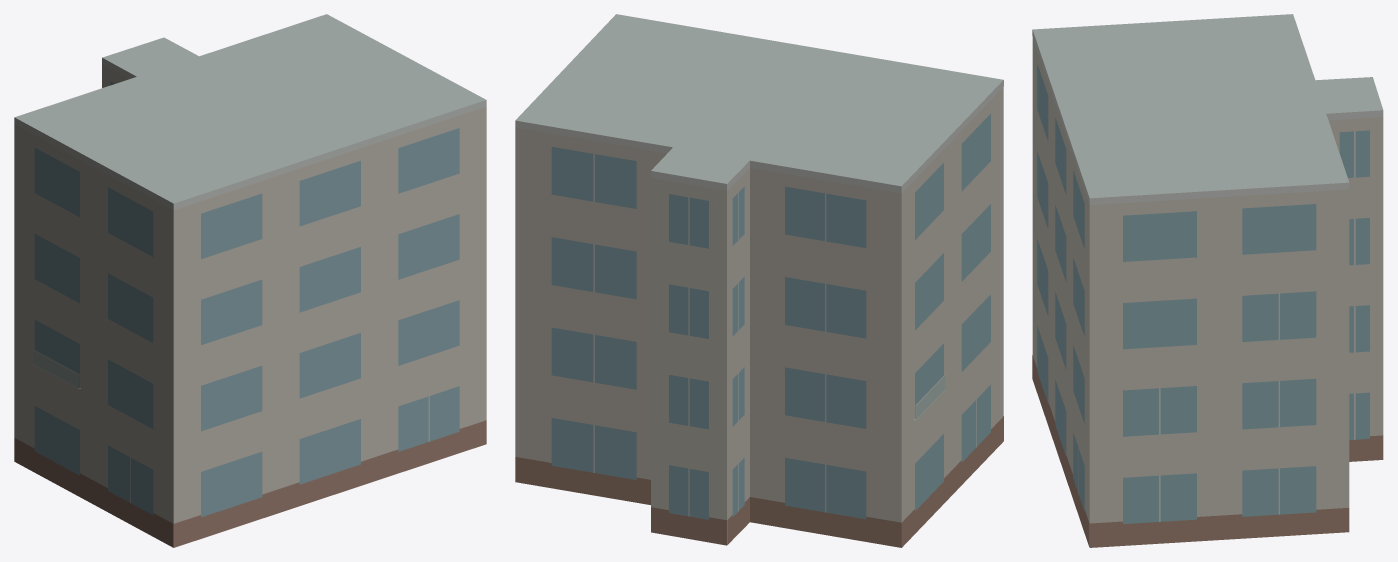
File: survey-upis-32721249.glb
The picture shows the model from 3 angles, left to right: view 1: azimuth 30°, elevation 25°; view 2: azimuth 150°, elevation 25°; view 3: azimuth 270°, elevation 25°; orthographic projection. The views are drawn at different scales.
Parts seen in each view (by area): view 1: survey-upis-32721249.tmp; view 2: survey-upis-32721249.tmp; view 3: survey-upis-32721249.tmp.
Boxes of the visible parts, left/top/right/bottom form: survey-upis-32721249.tmp: left=14, top=14, right=486, bottom=547; survey-upis-32721249.tmp: left=515, top=14, right=1003, bottom=547; survey-upis-32721249.tmp: left=1032, top=14, right=1383, bottom=547.
Bounding box in the file's own units: 14.37 × 12.7 × 11.57.
